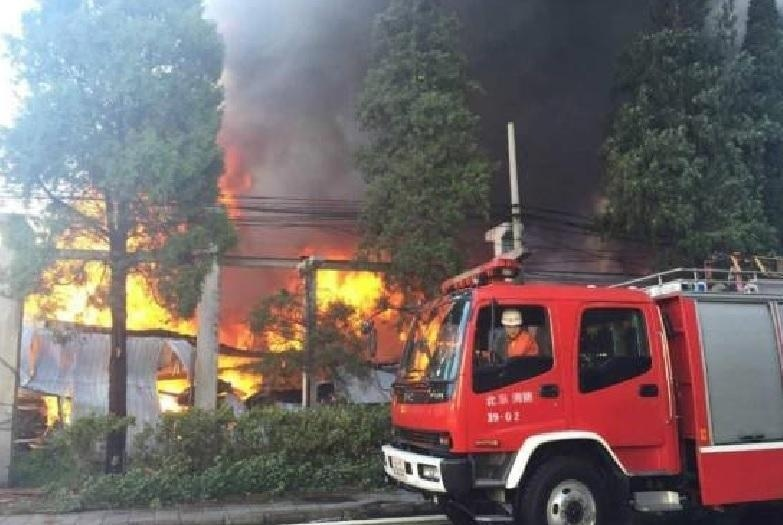fire: (25, 187, 195, 337), (214, 314, 279, 399), (312, 260, 391, 327)
